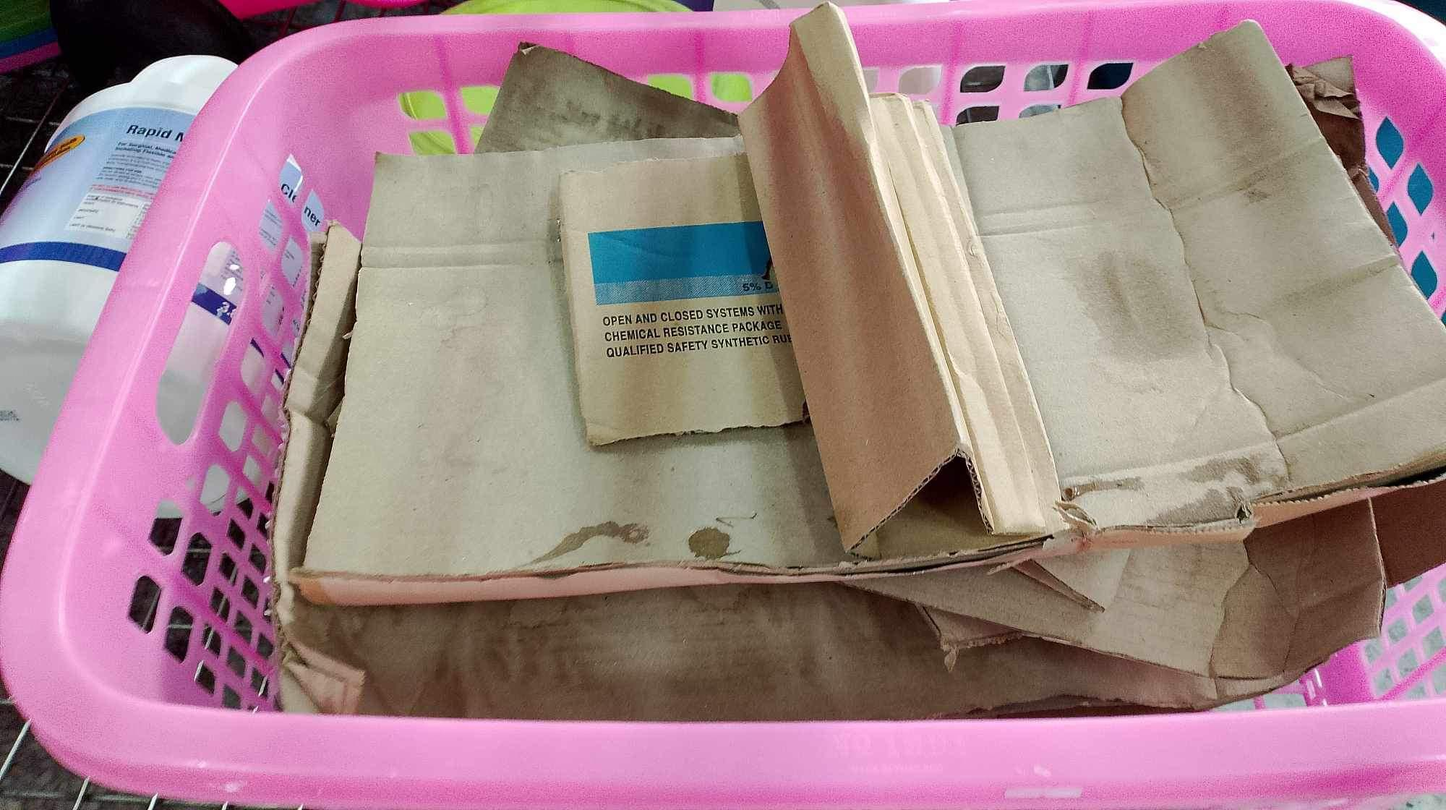General: (4, 4, 1440, 803)
Infectious: (1, 51, 247, 500)
